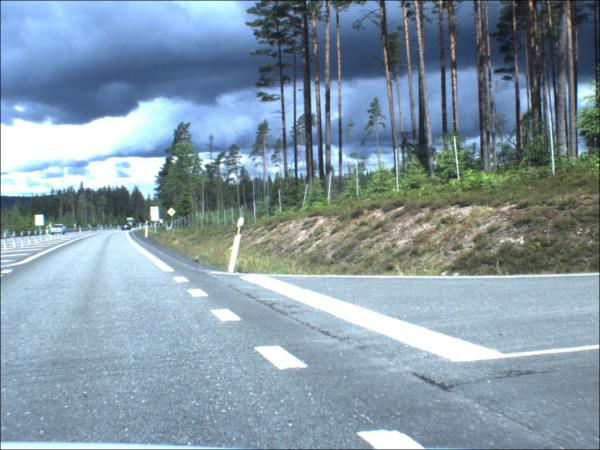PRIORITY_ROAD: (169, 208, 178, 218)
